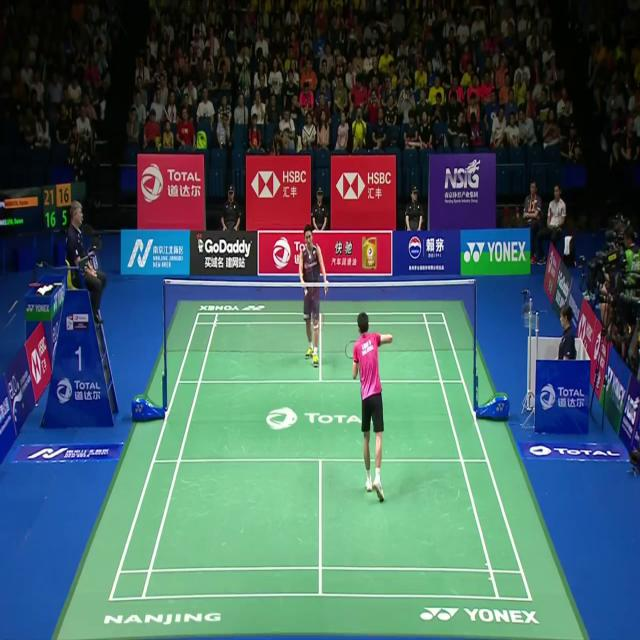Shuttlecock: (303, 287, 310, 298)
